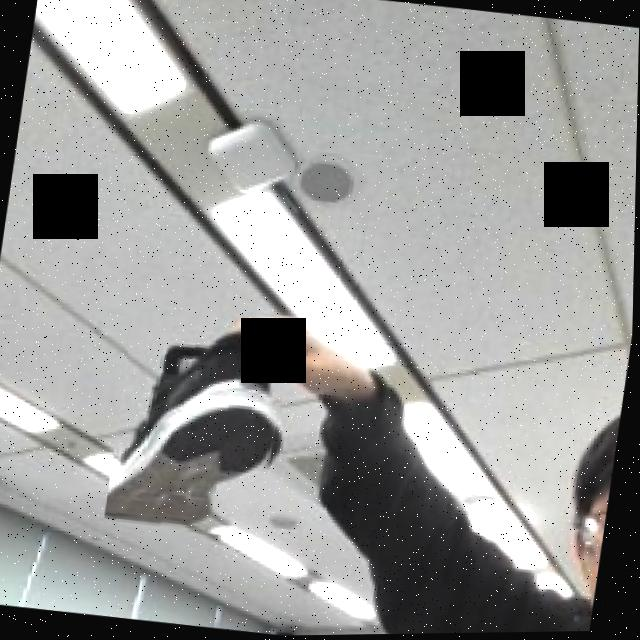shoe: (105, 300, 299, 546)
